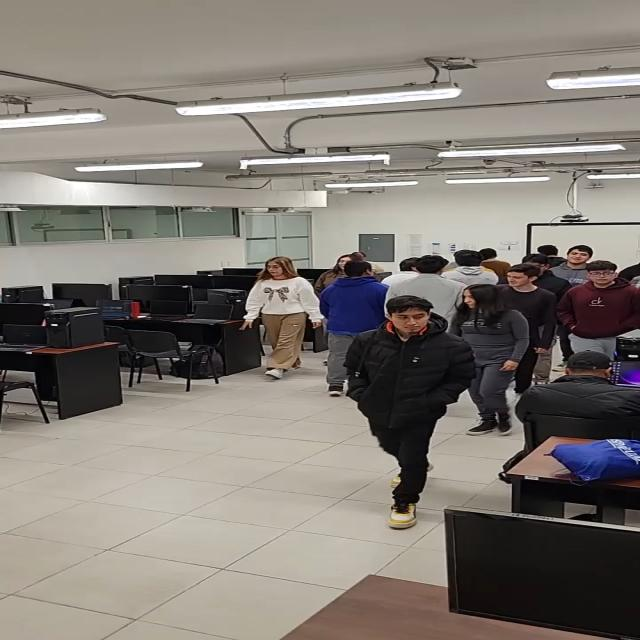Persona: (349, 294, 471, 507), (456, 284, 522, 427), (255, 257, 314, 362), (506, 264, 554, 373), (574, 264, 636, 346), (324, 262, 380, 351), (401, 256, 459, 304), (549, 240, 592, 268)
